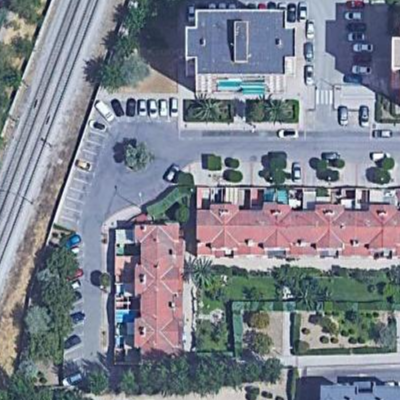tree: (97, 57, 144, 91), (157, 356, 196, 393), (110, 27, 147, 63), (39, 279, 80, 311), (21, 302, 55, 337), (120, 141, 155, 174), (31, 335, 66, 367), (200, 359, 237, 389), (43, 252, 81, 278), (191, 261, 221, 292), (81, 366, 113, 394), (246, 329, 276, 357), (117, 369, 146, 397), (267, 358, 291, 391), (245, 308, 276, 332), (245, 358, 264, 383)
